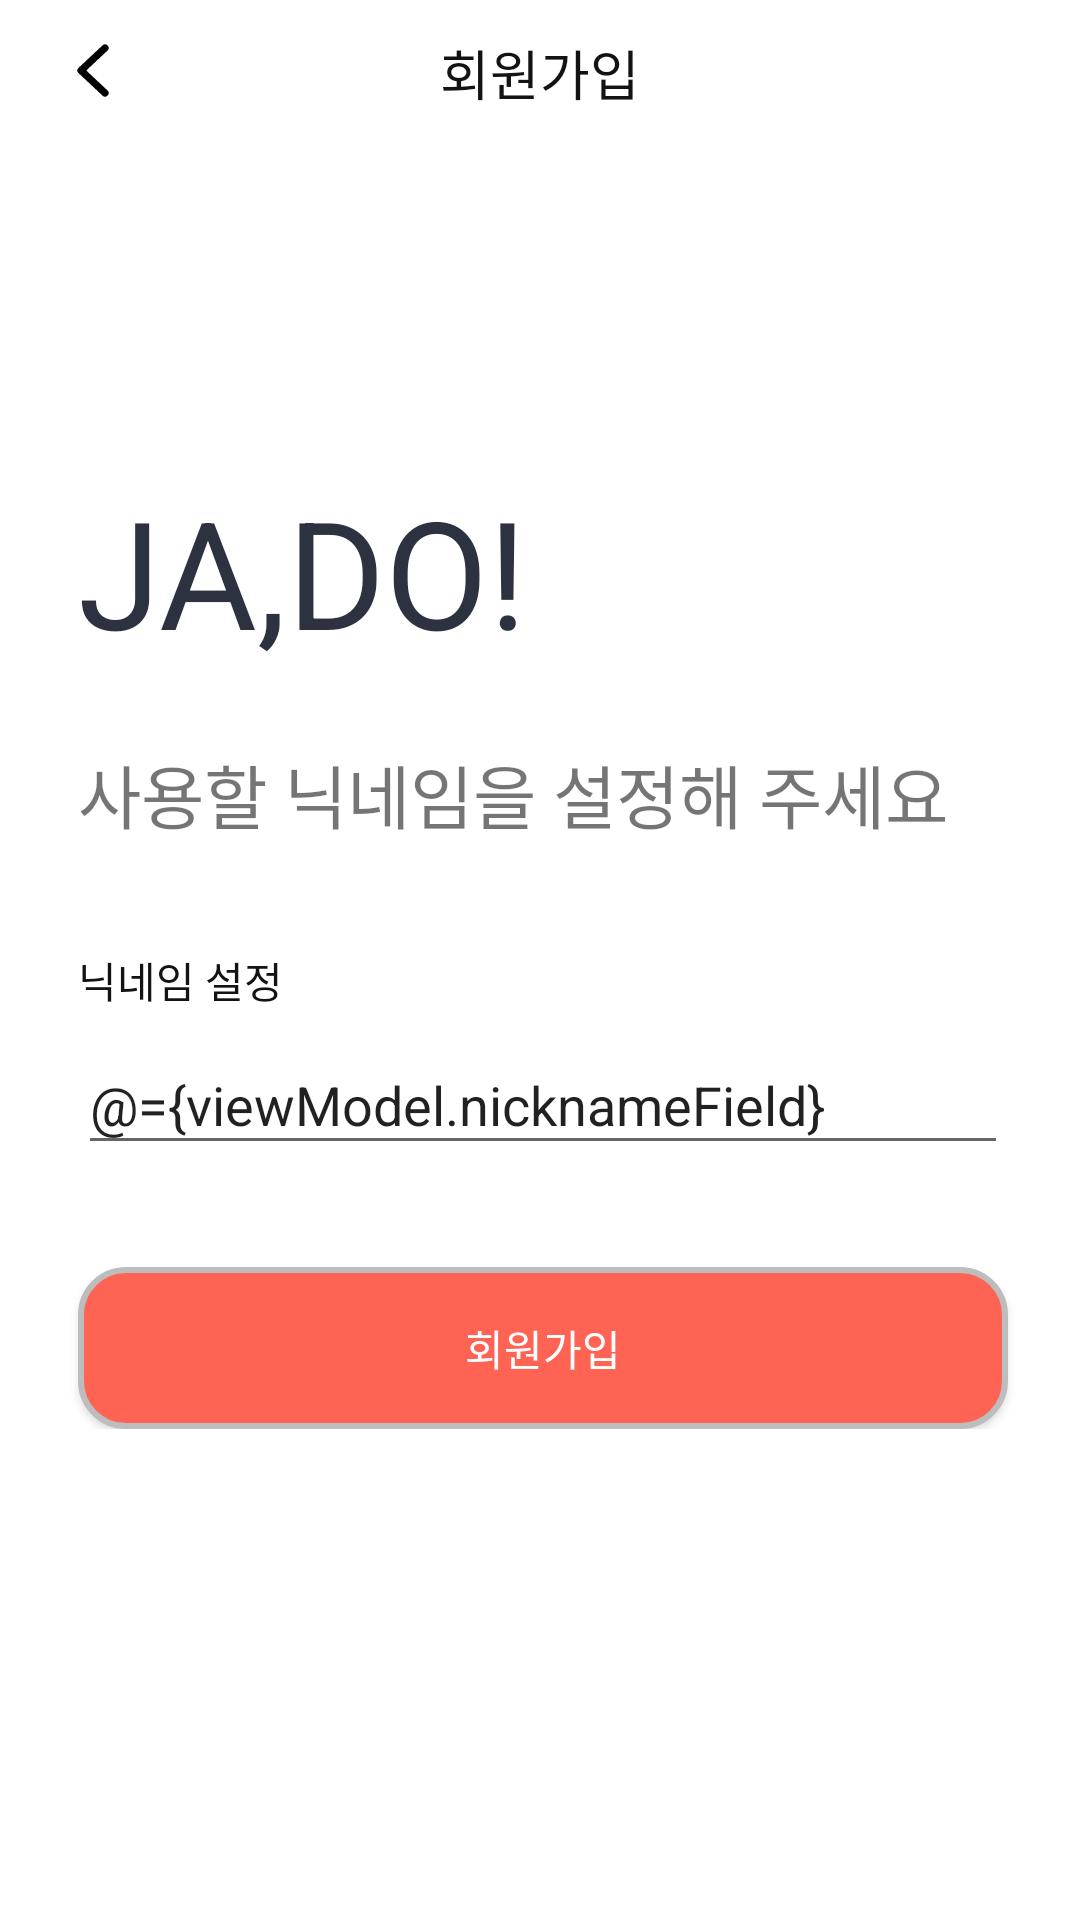

Where to tap for icons on this 1080w x 1920h app screen, as [x,y]:
back: [93,70]
